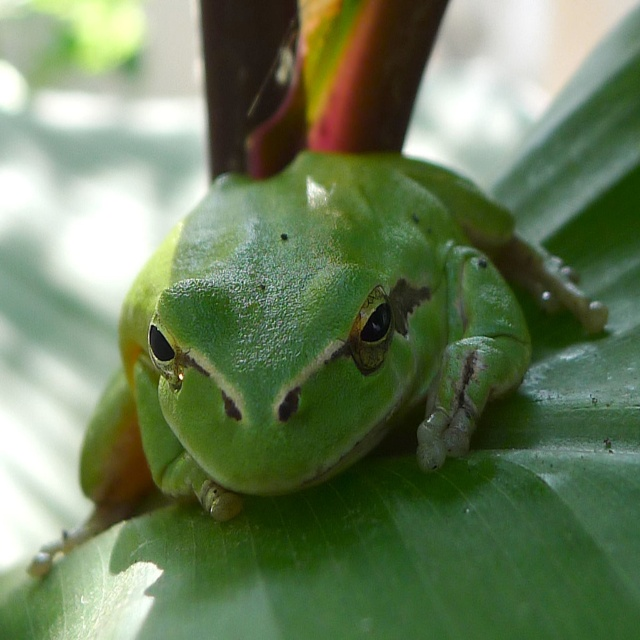Frog: (31, 149, 606, 581)
